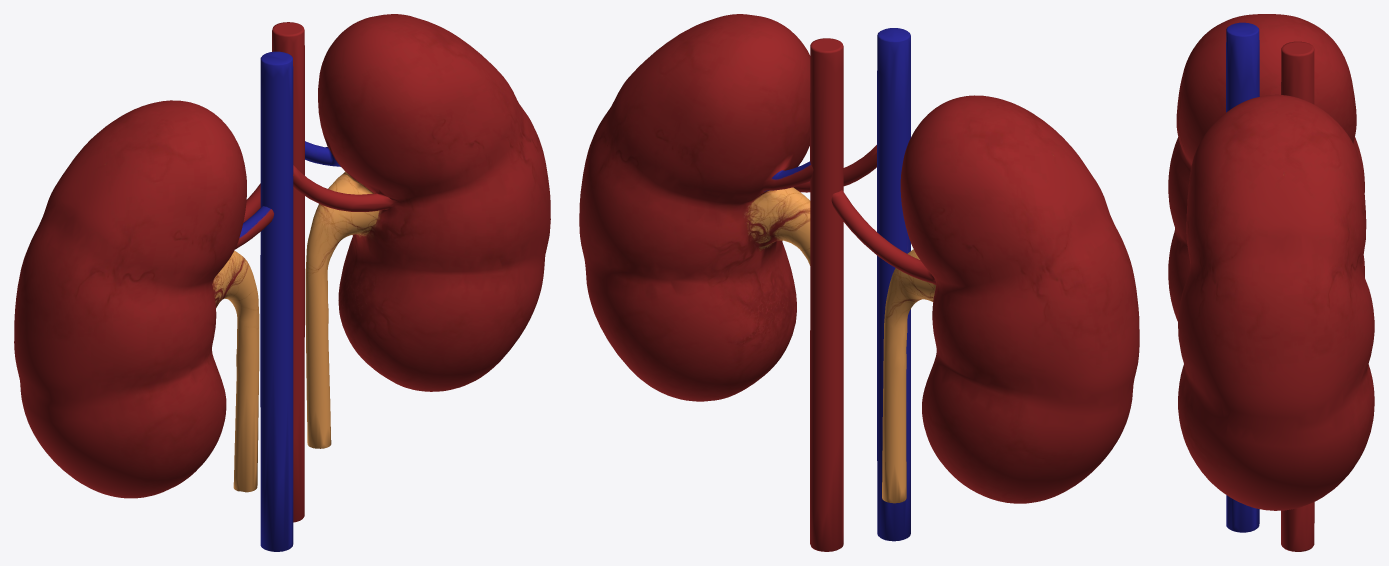
The model's file is human_kidney.glb.
3 views of the same model, side by side, from view 1: azimuth 30°, elevation 25°; view 2: azimuth 150°, elevation 25°; view 3: azimuth 270°, elevation 25° (orthographic). The views are drawn at different scales.
Parts seen in each view (by area): view 1: kidney02:kidney03:Group12708, Group12708; view 2: kidney02:kidney03:Group12708, Group12708; view 3: Group12708, kidney02:kidney03:Group12708.
Boxes of the visible parts, x1,y1,x2,y2 form: kidney02:kidney03:Group12708: [14, 22, 304, 551]; Group12708: [293, 14, 550, 448]; kidney02:kidney03:Group12708: [810, 28, 1139, 551]; Group12708: [579, 14, 876, 401]; Group12708: [1178, 94, 1374, 510]; kidney02:kidney03:Group12708: [1168, 14, 1364, 551].
Bounding box in the file's own units: 1.72 × 1.55 × 0.5822.
1 material, 1 textured.
